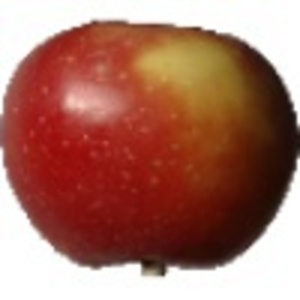maçã braeburn: (1, 15, 299, 270)
